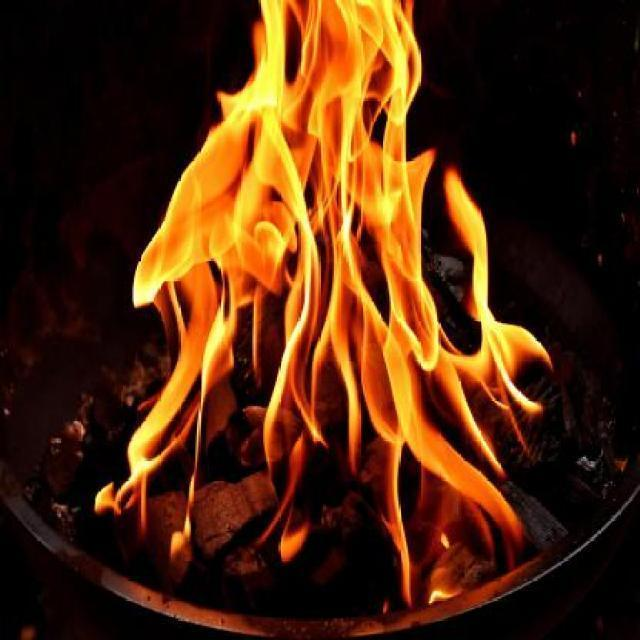fire: (95, 0, 549, 600)
